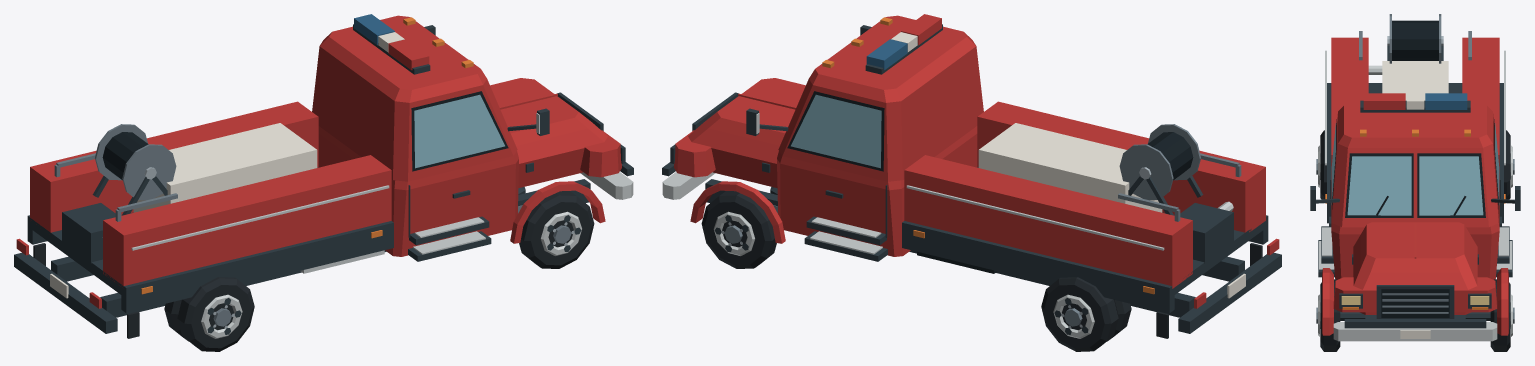
The model's file is b15_wildland_brush_fire_truck.glb.
3 views of the same model, side by side, from view 1: azimuth 30°, elevation 25°; view 2: azimuth 150°, elevation 25°; view 3: azimuth 270°, elevation 25° (orthographic). The views are drawn at different scales.
Parts seen in each view (by area): view 1: b15_wildland_brush_fire_truck; view 2: b15_wildland_brush_fire_truck; view 3: b15_wildland_brush_fire_truck.
Part boxes in pixels (left/top/right/bottom): b15_wildland_brush_fire_truck: left=14, top=14, right=633, bottom=351; b15_wildland_brush_fire_truck: left=662, top=14, right=1281, bottom=351; b15_wildland_brush_fire_truck: left=1310, top=14, right=1520, bottom=351.
Size of the model in its own units: 7.32 by 2.9 by 2.77.
